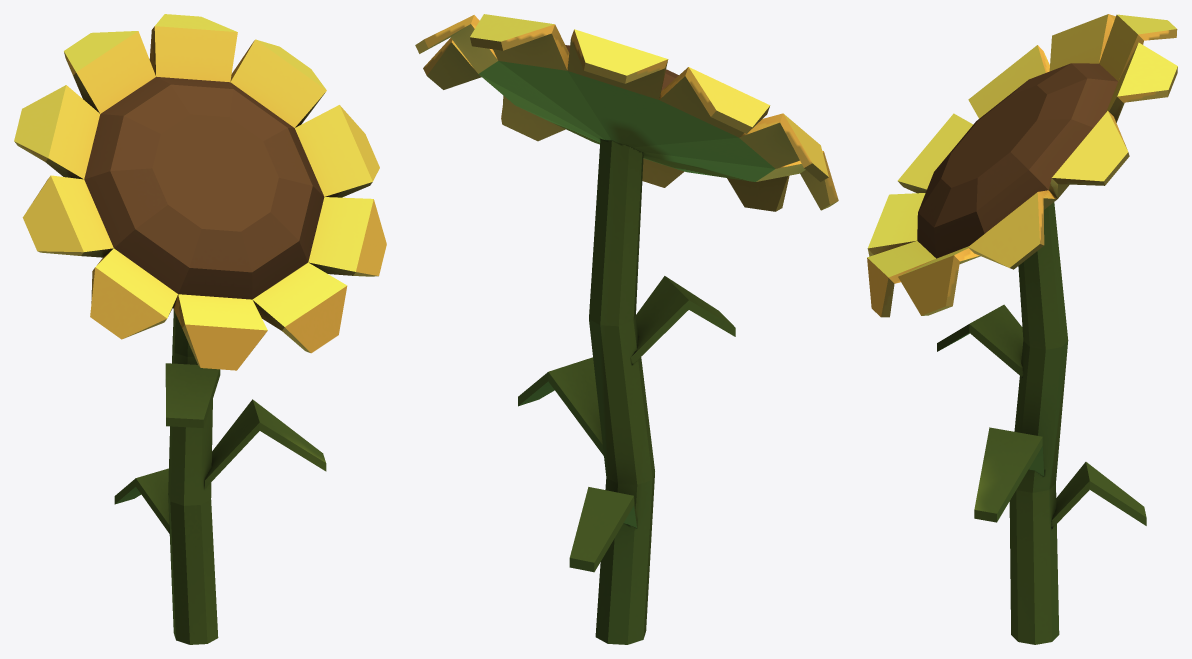
The model's file is sunflower.gltf.
The picture shows the model from 3 angles, left to right: view 1: azimuth 30°, elevation 25°; view 2: azimuth 150°, elevation 25°; view 3: azimuth 270°, elevation 25°; orthographic projection. The views are drawn at different scales.
Visible parts, largest first — view 1: sunflower; view 2: sunflower; view 3: sunflower.
Boxes of the visible parts, <box> form: sunflower: <box>14,14,386,644</box>; sunflower: <box>415,14,838,644</box>; sunflower: <box>867,14,1177,644</box>.
Size of the model in its own units: 0.3645 by 0.5804 by 0.2742.
